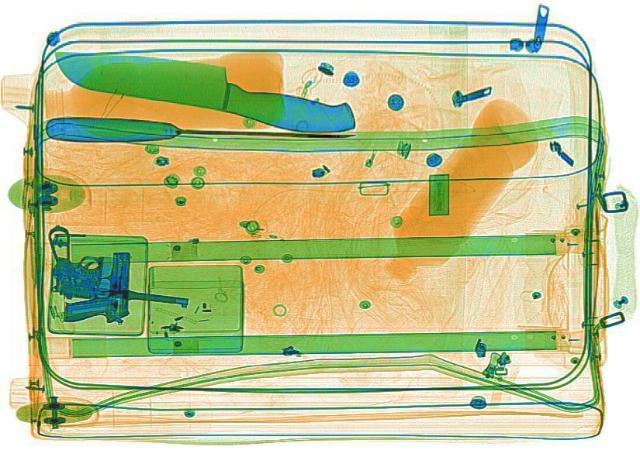Gun: (38, 245, 214, 324), (56, 243, 152, 332)
Knife: (35, 26, 369, 149), (46, 116, 354, 145)
